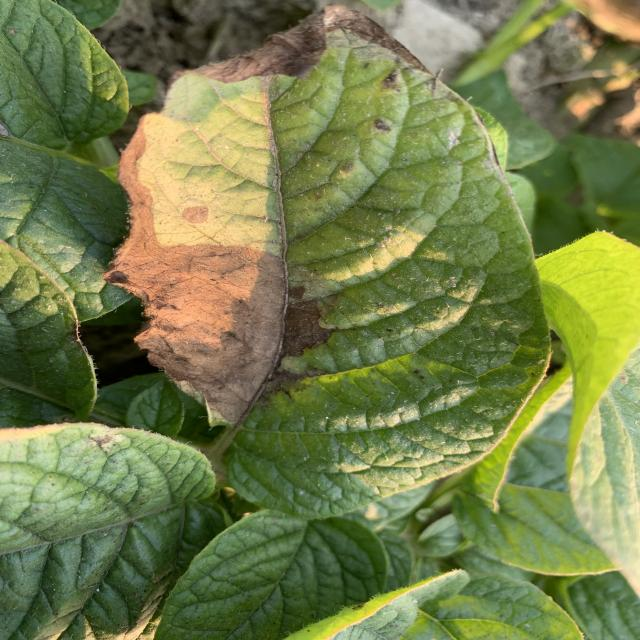lateblight: (105, 206, 287, 425), (193, 6, 423, 82), (103, 114, 178, 299)
